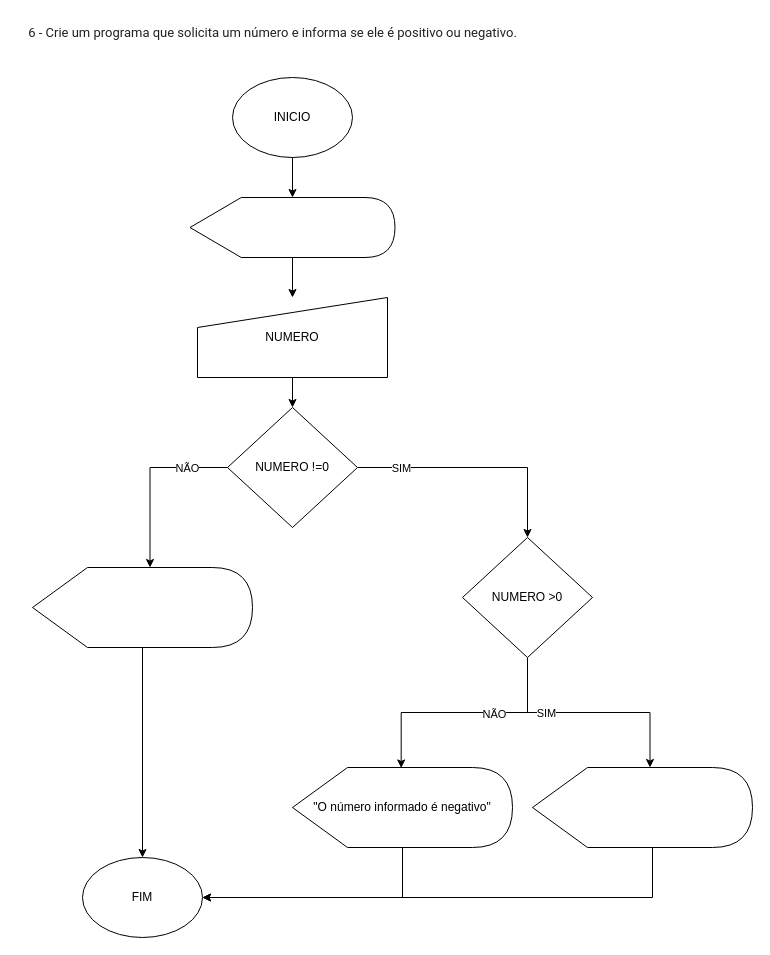
The diagram is 770 pixels wide and 955 high, and some of its shapes have lost their labels. The shapes that lost their labels are listed below. From the top down, each one's box as (x1, y1, x2, y2) in pixels, then its label:
(189, 196, 395, 258): "Informe um número"
(32, 566, 252, 648): "O número informado é o zero"
(532, 766, 752, 848): "O número informado é positivo"
